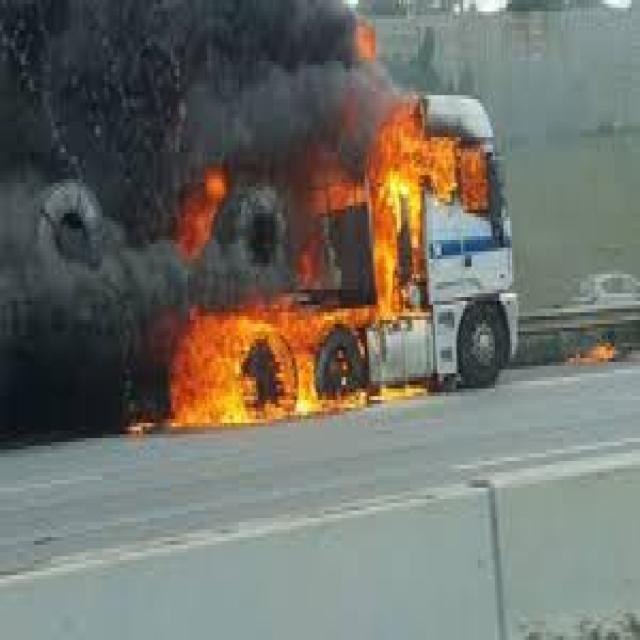Fire: (176, 295, 409, 408), (376, 112, 426, 291), (426, 133, 486, 203), (179, 167, 231, 237), (568, 327, 624, 377)
Smoke: (0, 28, 130, 365)
